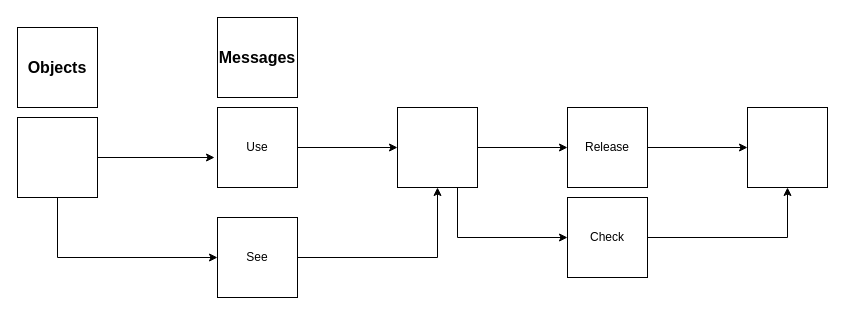
Image size: 845x315. Some labels were removed from this diagram. The centre of each missing label's shape, as x and y in pixels:
Bike: [787,147]
Docking Station: [437,147]
Person: [57,157]
